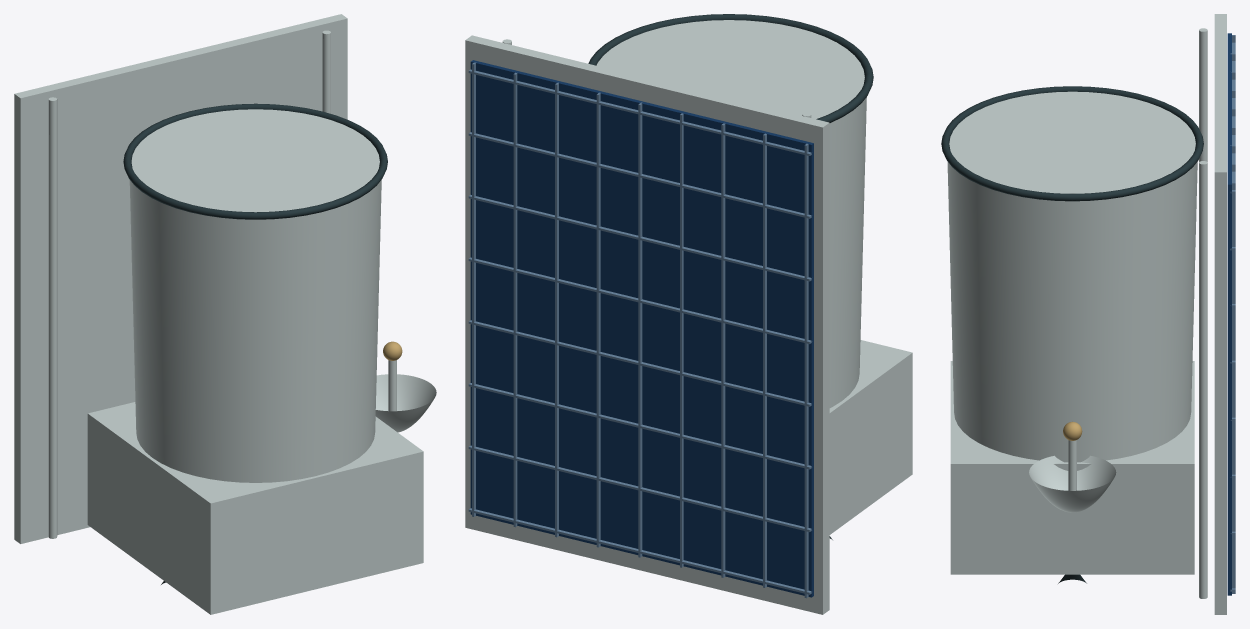
Rendered from euclid.glb.
3 views of the same model, side by side, from view 1: azimuth 30°, elevation 25°; view 2: azimuth 150°, elevation 25°; view 3: azimuth 270°, elevation 25° (orthographic). The views are drawn at different scales.
Parts seen in each view (by area): view 1: body, heatshield, antenna; view 2: solar, body, heatshield; view 3: body, heatshield, solar, antenna.
Part boxes in pixels (bbox=[...]): body: bbox=[87, 103, 423, 614]; heatshield: bbox=[14, 14, 347, 543]; antenna: bbox=[375, 341, 436, 432]; solar: bbox=[468, 60, 813, 598]; body: bbox=[588, 14, 912, 534]; heatshield: bbox=[465, 35, 829, 614]; body: bbox=[941, 86, 1203, 574]; heatshield: bbox=[1199, 14, 1226, 614]; solar: bbox=[1227, 33, 1235, 595]; antenna: bbox=[1029, 421, 1116, 512].
Bounding box in the file's own units: 2.23 × 2.87 × 1.69.
